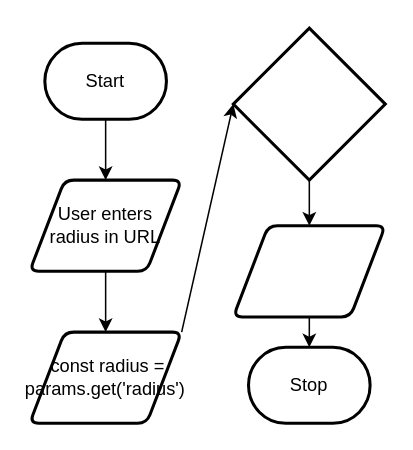
This 413x450 diagram has some shape labels left out. Each missing label, with the box of its shape:
const volume = (4 / 3 * Math.PI * (radius * radius * radius)): (231, 26, 386, 181)
Program displays volume: (231, 223, 386, 318)
